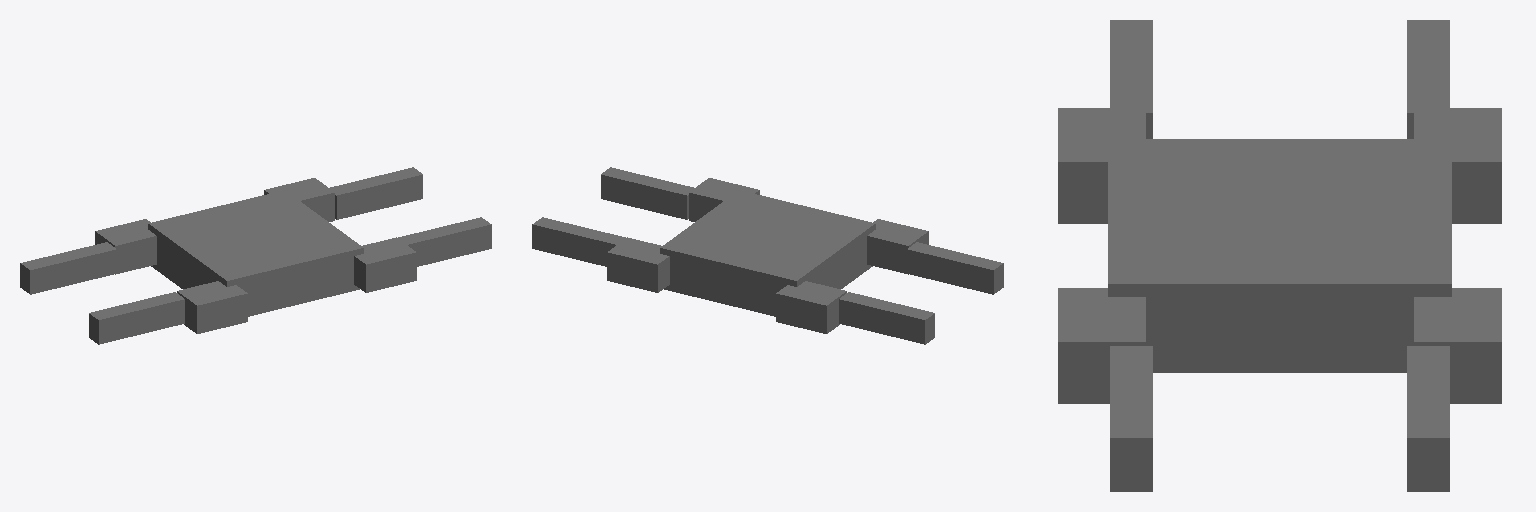
--- What the picture shows (computed from the rendered views, not written in the file) ---
3 views of the same robot in one strip: view 1: azimuth 30°, elevation 25°; view 2: azimuth 150°, elevation 25°; view 3: azimuth 270°, elevation 25° (orthographic).
Robot: ASTRo — 17 links, 16 joints (12 revolute, 4 fixed); root link base; default pose: all joints at 0.
Visible links, largest first — view 1: base, hip2,rl, hip2,rr, hip2,fl, hip1,rr, hip2,fr, hip1,fr, hip1,rl, hip1,fl; view 2: base, hip2,rr, hip2,rl, hip2,fr, hip1,rl, hip2,fl, hip1,fl, hip1,rr, hip1,fr; view 3: base, hip1,fl, hip1,fr, hip1,rl, hip1,rr, hip2,fl, hip2,fr, hip2,rl, hip2,rr.
Boxes of the visible links, box(x1,y1,x2,y2) form: base: box(148, 190, 363, 316); hip2,rl: box(20, 242, 116, 294); hip2,rr: box(89, 292, 184, 344); hip2,fl: box(330, 167, 422, 219); hip1,rr: box(177, 281, 247, 333); hip2,fr: box(398, 217, 491, 266); hip1,fr: box(354, 237, 416, 292); hip1,rl: box(95, 219, 156, 274); hip1,fl: box(264, 178, 334, 221); base: box(660, 190, 875, 316); hip2,rr: box(907, 242, 1003, 294); hip2,rl: box(839, 292, 934, 344); hip2,fr: box(601, 167, 693, 219); hip1,rl: box(776, 281, 846, 333); hip2,fl: box(532, 217, 625, 266); hip1,fl: box(607, 237, 669, 292); hip1,rr: box(867, 219, 928, 274); hip1,fr: box(689, 178, 759, 221); base: box(1108, 139, 1451, 372); hip1,fl: box(1414, 288, 1501, 403); hip1,fr: box(1058, 288, 1145, 403); hip1,rl: box(1414, 108, 1501, 223); hip1,rr: box(1058, 108, 1145, 223); hip2,fl: box(1407, 346, 1449, 491); hip2,fr: box(1110, 346, 1152, 491); hip2,rl: box(1407, 20, 1449, 138); hip2,rr: box(1110, 20, 1152, 138).
Bounding box of the posed robot: 1.01 × 0.4524 × 0.1 m (x, y, z).
Geometry: primitives only (box / cylinder / sphere), no mesh files.

robot.urdf — ASTRo:
<?xml version="1.0" ?>
<!-- =================================================================================== -->
<!-- |    This document was autogenerated by xacro from src/simulator/ASTRo_urdf/ASTRo_xacro/ASTRo_figure.urdf.xacro | -->
<!-- |    EDITING THIS FILE BY HAND IS NOT RECOMMENDED                                 | -->
<!-- =================================================================================== -->
<!-- 
MIT License (modified)
Copyright (c) 2018 Ghost Robotics
Authors:
Avik De <[email redacted]>
Tom Jacobs <[email redacted]>
Vasileios Vasilopoulos <[email redacted]>
Permission is hereby granted, free of charge, to any person obtaining a copy
of this **file** (the "Software"), to deal
in the Software without restriction, including without limitation the rights
to use, copy, modify, merge, publish, distribute, sublicense, and/or sell
copies of the Software, and to permit persons to whom the Software is
furnished to do so, subject to the following conditions:
The above copyright notice and this permission notice shall be included in all
copies or substantial portions of the Software.
THE SOFTWARE IS PROVIDED "AS IS", WITHOUT WARRANTY OF ANY KIND, EXPRESS OR
IMPLIED, INCLUDING BUT NOT LIMITED TO THE WARRANTIES OF MERCHANTABILITY,
FITNESS FOR A PARTICULAR PURPOSE AND NONINFRINGEMENT. IN NO EVENT SHALL THE
AUTHORS OR COPYRIGHT HOLDERS BE LIABLE FOR ANY CLAIM, DAMAGES OR OTHER
LIABILITY, WHETHER IN AN ACTION OF CONTRACT, TORT OR OTHERWISE, ARISING FROM,
OUT OF OR IN CONNECTION WITH THE SOFTWARE OR THE USE OR OTHER DEALINGS IN THE
SOFTWARE. 
-->
<robot name="ASTRo">
  <material name="gray">
    <color rgba="0.5 0.5 0.5 1.0"/>
  </material>
  <!-- Body -->
  <link name="base">
    <visual>
      <origin rpy="0 0 0" xyz="0 0 0"/>
      <geometry>
        <box size="0.35 0.35 0.1"/>
      </geometry>
      <material name="gray"/>
    </visual>
    <inertial>
      <mass value="10.1"/>
      <!-- Uniform box -->
      <inertia ixx="0.141" ixy="0" ixz="0" iyy="0.143" iyz="0" izz="0.254"/>
    </inertial>
    <!-- Just copy geometry for collision -->
    <collision>
      <geometry>
        <box size="0.35 0.35 0.1"/>
      </geometry>
    </collision>
  </link>
  <gazebo reference="base">
    <material>Gazebo/BlackTransparent</material>
  </gazebo>
  <!-- red new legs -->
  <!-- TODO: clean this, it should be part of main leg macro -->
  <!-- Hip motor -->
  <link name="hip1,fl">
    <visual>
      <origin rpy="0 0 0" xyz="0.065 0.03 0"/>
      <geometry>
        <box size="0.13 0.09 0.07"/>
      </geometry>
      <material name="gray"/>
    </visual>
    <collision>
      <origin rpy="0 0 0" xyz="0.065 0.03 0"/>
      <geometry>
        <box size="0.13 0.09 0.07"/>
      </geometry>
    </collision>
    <inertial>
      <mass value="1.18"/>
      <inertia ixx="0.0299" ixy="0" ixz="0" iyy="0.0333" iyz="0" izz="0.0046"/>
    </inertial>
  </link>
  <gazebo reference="hip1,fl">
    <material>Gazebo/Purple</material>
  </gazebo>
  <!-- Abduction joint. Joint names are: 8 9 10 11 -->
  <joint name="8" type="revolute">
    <parent link="base"/>
    <child link="hip1,fl"/>
    <axis xyz="0 0 1"/>
    <origin rpy="0 0 0.0" xyz="0.15121 0.15121 0"/>
    <limit effort="375" lower="-0.39269908169872414" upper="1.5707963267948966" velocity="8.6"/>
    <dynamics damping="0.0" friction="0.0"/>
  </joint>
  <!-- Transmission elements required for Gazebo -->
  <transmission name="transmission_8">
    <type>transmission_interface/SimpleTransmission</type>
    <joint name="8">
      <hardwareInterface>hardware_interface/EffortJointInterface</hardwareInterface>
    </joint>
    <actuator name="motor_8">
      <hardwareInterface>EffortJointInterface</hardwareInterface>
      <mechanicalReduction>1</mechanicalReduction>
    </actuator>
  </transmission>
  <!-- Upper leg -->
  <link name="hip2,fl">
    <visual>
      <origin rpy="1.5707963267948966 0 0" xyz="0.111 0 -0.03"/>
      <geometry>
        <box size="0.222 0.044 0.06"/>
      </geometry>
      <material name="gray"/>
    </visual>
    <collision>
      <origin rpy="0 0 0" xyz="0.111 0 -0.03"/>
      <geometry>
        <box size="0.222 0.044 0.06"/>
      </geometry>
    </collision>
    <inertial>
      <mass value="1.39"/>
      <inertia ixx="0.0017" ixy="0" ixz="0" iyy="0.0066" iyz="0" izz="0.0064"/>
    </inertial>
  </link>
  <gazebo reference="hip2,fl">
    <material>Gazebo/Blue</material>
  </gazebo>
  <!-- Hip joint. (Motor to upper leg). Joint names are: 0 2 4 6 -->
  <joint name="0" type="revolute">
    <parent link="hip1,fl"/>
    <child link="hip2,fl"/>
    <axis xyz="0 0 1"/>
    <origin rpy="-1.5707963267948966 0 0" xyz="0.13 0.03 0"/>
    <limit effort="87.5" lower="-1.5707963267948966" upper="2.356194490192345" velocity="30"/>
    <dynamics damping="0.0" friction="0.0"/>
  </joint>
  <!-- Transmission elements required for Gazebo -->
  <transmission name="transmission_0">
    <type>transmission_interface/SimpleTransmission</type>
    <joint name="0">
      <hardwareInterface>hardware_interface/EffortJointInterface</hardwareInterface>
    </joint>
    <actuator name="motor_0">
      <hardwareInterface>EffortJointInterface</hardwareInterface>
      <mechanicalReduction>1</mechanicalReduction>
    </actuator>
  </transmission>
  <!-- Lower leg -->
  <link name="knee,fl">
    <visual>
      <origin rpy="1.5707963267948966 0 1.5707963267948966" xyz="0.135 0 0"/>
      <geometry>
        <cylinder length="0.27" radius="0.011"/>
      </geometry>
      <material name="gray"/>
    </visual>
    <collision>
      <origin rpy="1.5707963267948966 0 1.5707963267948966" xyz="0.135 0 -0.0"/>
      <geometry>
        <cylinder length="0.27" radius="0.011"/>
      </geometry>
    </collision>
    <inertial>
      <mass value="0.28"/>
      <inertia ixx="0.0665" ixy="0" ixz="0" iyy="0.0032" iyz="0" izz="0.0032"/>
    </inertial>
  </link>
  <gazebo reference="knee,fl">
    <material>Gazebo/Black</material>
  </gazebo>
  <!-- Knee joint. Joint names are: 1 3 5 7 -->
  <joint name="1" type="revolute">
    <parent link="hip2,fl"/>
    <child link="knee,fl"/>
    <axis xyz="0 0 -1"/>
    <origin rpy="0 0 3.141592653589793" xyz="0.222 0 -0.03"/>
    <limit effort="87.5" lower="0" upper="3.141592653589793" velocity="30"/>
    <dynamics damping="0.0" friction="0.0"/>
  </joint>
  <!-- Transmission elements required for Gazebo -->
  <transmission name="transmission_1">
    <type>transmission_interface/SimpleTransmission</type>
    <joint name="1">
      <hardwareInterface>hardware_interface/EffortJointInterface</hardwareInterface>
    </joint>
    <actuator name="motor_1">
      <hardwareInterface>EffortJointInterface</hardwareInterface>
      <mechanicalReduction>1</mechanicalReduction>
    </actuator>
  </transmission>
  

		Toe 
		
  <link name="foot,fl">
    <!--<visual>
				<origin rpy="0 0 0" xyz="0 0 0"/>
				<geometry>
					<sphere radius="${toeRadius}"/>
				</geometry>
			</visual>
			
			<collision>
				<origin rpy="0 0 0" xyz="0 0 0"/>
				<geometry>
					<sphere radius="${toeRadius}"/>
				</geometry>
			</collision>

			<inertial>
				<mass value="${toeMass}"/>
				<inertia ixx="0.000025"  ixy="0"  ixz="0" iyy="0.000025" iyz="0" izz="0.000025" />
			</inertial>
			-->
  </link>
  <gazebo reference="foot,fl">
    <material>Gazebo/DarkGray</material>
    <collision>
      <surface>
        <bounce>
          <restitution_coefficient>0</restitution_coefficient>
          <threshold>1e+06</threshold>
        </bounce>
        <friction>
          <torsional>
            <coefficient>0.3</coefficient>
          </torsional>
          <ode>
            <mu>20.0</mu>
            <mu2>10.0</mu2>
          </ode>
          <bullet>
            <rolling_friction>0.3</rolling_friction>
            <friction2>10.0</friction2>
          </bullet>
        </friction>
        <contact>
          <bullet>
            <kp>30000.0</kp>
            <kd>1000.0</kd>
          </bullet>
          <ode>
            <kp>30000.0</kp>
            <kd>1000.0</kd>
          </ode>
        </contact>
      </surface>
    </collision>
  </gazebo>
  <joint name="jtoe,fl" type="fixed">
    <parent link="knee,fl"/>
    <child link="foot,fl"/>
    <origin xyz="0.27 0 0"/>
    <dynamics damping="0.0" friction="0.0"/>
  </joint>
  <!-- Hip motor -->
  <link name="hip1,rl">
    <visual>
      <origin rpy="0 0 0" xyz="0.065 -0.03 0"/>
      <geometry>
        <box size="0.13 0.09 0.07"/>
      </geometry>
      <material name="gray"/>
    </visual>
    <collision>
      <origin rpy="0 0 0" xyz="0.065 -0.03 0"/>
      <geometry>
        <box size="0.13 0.09 0.07"/>
      </geometry>
    </collision>
    <inertial>
      <mass value="1.18"/>
      <inertia ixx="0.0299" ixy="0" ixz="0" iyy="0.0333" iyz="0" izz="0.0046"/>
    </inertial>
  </link>
  <gazebo reference="hip1,rl">
    <material>Gazebo/Purple</material>
  </gazebo>
  <!-- Abduction joint. Joint names are: 8 9 10 11 -->
  <joint name="9" type="revolute">
    <parent link="base"/>
    <child link="hip1,rl"/>
    <axis xyz="0 0 1"/>
    <origin rpy="0 0 3.141592653589793" xyz="-0.15121 0.15121 0"/>
    <limit effort="375" lower="-1.5707963267948966" upper="0.39269908169872414" velocity="8.6"/>
    <dynamics damping="0.0" friction="0.0"/>
  </joint>
  <!-- Transmission elements required for Gazebo -->
  <transmission name="transmission_9">
    <type>transmission_interface/SimpleTransmission</type>
    <joint name="9">
      <hardwareInterface>hardware_interface/EffortJointInterface</hardwareInterface>
    </joint>
    <actuator name="motor_9">
      <hardwareInterface>EffortJointInterface</hardwareInterface>
      <mechanicalReduction>1</mechanicalReduction>
    </actuator>
  </transmission>
  <!-- Upper leg -->
  <link name="hip2,rl">
    <visual>
      <origin rpy="1.5707963267948966 0 0" xyz="0.111 0 0.03"/>
      <geometry>
        <box size="0.222 0.044 0.06"/>
      </geometry>
      <material name="gray"/>
    </visual>
    <collision>
      <origin rpy="0 0 0" xyz="0.111 0 0.03"/>
      <geometry>
        <box size="0.222 0.044 0.06"/>
      </geometry>
    </collision>
    <inertial>
      <mass value="1.39"/>
      <inertia ixx="0.0017" ixy="0" ixz="0" iyy="0.0066" iyz="0" izz="0.0064"/>
    </inertial>
  </link>
  <gazebo reference="hip2,rl">
    <material>Gazebo/Blue</material>
  </gazebo>
  <!-- Hip joint. (Motor to upper leg). Joint names are: 0 2 4 6 -->
  <joint name="2" type="revolute">
    <parent link="hip1,rl"/>
    <child link="hip2,rl"/>
    <axis xyz="0 0 1"/>
    <origin rpy="-1.5707963267948966 0 0" xyz="0.13 -0.03 0"/>
    <limit effort="87.5" lower="-1.5707963267948966" upper="2.356194490192345" velocity="30"/>
    <dynamics damping="0.0" friction="0.0"/>
  </joint>
  <!-- Transmission elements required for Gazebo -->
  <transmission name="transmission_2">
    <type>transmission_interface/SimpleTransmission</type>
    <joint name="2">
      <hardwareInterface>hardware_interface/EffortJointInterface</hardwareInterface>
    </joint>
    <actuator name="motor_2">
      <hardwareInterface>EffortJointInterface</hardwareInterface>
      <mechanicalReduction>1</mechanicalReduction>
    </actuator>
  </transmission>
  <!-- Lower leg -->
  <link name="knee,rl">
    <visual>
      <origin rpy="1.5707963267948966 0 1.5707963267948966" xyz="0.135 0 0"/>
      <geometry>
        <cylinder length="0.27" radius="0.011"/>
      </geometry>
      <material name="gray"/>
    </visual>
    <collision>
      <origin rpy="1.5707963267948966 0 1.5707963267948966" xyz="0.135 0 -0.0"/>
      <geometry>
        <cylinder length="0.27" radius="0.011"/>
      </geometry>
    </collision>
    <inertial>
      <mass value="0.28"/>
      <inertia ixx="0.0665" ixy="0" ixz="0" iyy="0.0032" iyz="0" izz="0.0032"/>
    </inertial>
  </link>
  <gazebo reference="knee,rl">
    <material>Gazebo/Black</material>
  </gazebo>
  <!-- Knee joint. Joint names are: 1 3 5 7 -->
  <joint name="3" type="revolute">
    <parent link="hip2,rl"/>
    <child link="knee,rl"/>
    <axis xyz="0 0 -1"/>
    <origin rpy="0 0 3.141592653589793" xyz="0.222 0 0.03"/>
    <limit effort="87.5" lower="0" upper="3.141592653589793" velocity="30"/>
    <dynamics damping="0.0" friction="0.0"/>
  </joint>
  <!-- Transmission elements required for Gazebo -->
  <transmission name="transmission_3">
    <type>transmission_interface/SimpleTransmission</type>
    <joint name="3">
      <hardwareInterface>hardware_interface/EffortJointInterface</hardwareInterface>
    </joint>
    <actuator name="motor_3">
      <hardwareInterface>EffortJointInterface</hardwareInterface>
      <mechanicalReduction>1</mechanicalReduction>
    </actuator>
  </transmission>
  

		Toe 
		
  <link name="foot,rl">
    <!--<visual>
				<origin rpy="0 0 0" xyz="0 0 0"/>
				<geometry>
					<sphere radius="${toeRadius}"/>
				</geometry>
			</visual>
			
			<collision>
				<origin rpy="0 0 0" xyz="0 0 0"/>
				<geometry>
					<sphere radius="${toeRadius}"/>
				</geometry>
			</collision>

			<inertial>
				<mass value="${toeMass}"/>
				<inertia ixx="0.000025"  ixy="0"  ixz="0" iyy="0.000025" iyz="0" izz="0.000025" />
			</inertial>
			-->
  </link>
  <gazebo reference="foot,rl">
    <material>Gazebo/DarkGray</material>
    <collision>
      <surface>
        <bounce>
          <restitution_coefficient>0</restitution_coefficient>
          <threshold>1e+06</threshold>
        </bounce>
        <friction>
          <torsional>
            <coefficient>0.3</coefficient>
          </torsional>
          <ode>
            <mu>20.0</mu>
            <mu2>10.0</mu2>
          </ode>
          <bullet>
            <rolling_friction>0.3</rolling_friction>
            <friction2>10.0</friction2>
          </bullet>
        </friction>
        <contact>
          <bullet>
            <kp>30000.0</kp>
            <kd>1000.0</kd>
          </bullet>
          <ode>
            <kp>30000.0</kp>
            <kd>1000.0</kd>
          </ode>
        </contact>
      </surface>
    </collision>
  </gazebo>
  <joint name="jtoe,rl" type="fixed">
    <parent link="knee,rl"/>
    <child link="foot,rl"/>
    <origin xyz="0.27 0 0"/>
    <dynamics damping="0.0" friction="0.0"/>
  </joint>
  <!-- Hip motor -->
  <link name="hip1,fr">
    <visual>
      <origin rpy="0 0 0" xyz="0.065 -0.03 0"/>
      <geometry>
        <box size="0.13 0.09 0.07"/>
      </geometry>
      <material name="gray"/>
    </visual>
    <collision>
      <origin rpy="0 0 0" xyz="0.065 -0.03 0"/>
      <geometry>
        <box size="0.13 0.09 0.07"/>
      </geometry>
    </collision>
    <inertial>
      <mass value="1.18"/>
      <inertia ixx="0.0299" ixy="0" ixz="0" iyy="0.0333" iyz="0" izz="0.0046"/>
    </inertial>
  </link>
  <gazebo reference="hip1,fr">
    <material>Gazebo/Purple</material>
  </gazebo>
  <!-- Abduction joint. Joint names are: 8 9 10 11 -->
  <joint name="10" type="revolute">
    <parent link="base"/>
    <child link="hip1,fr"/>
    <axis xyz="0 0 1"/>
    <origin rpy="0 0 0.0" xyz="0.15121 -0.15121 0"/>
    <limit effort="375" lower="-1.5707963267948966" upper="0.39269908169872414" velocity="8.6"/>
    <dynamics damping="0.0" friction="0.0"/>
  </joint>
  <!-- Transmission elements required for Gazebo -->
  <transmission name="transmission_10">
    <type>transmission_interface/SimpleTransmission</type>
    <joint name="10">
      <hardwareInterface>hardware_interface/EffortJointInterface</hardwareInterface>
    </joint>
    <actuator name="motor_10">
      <hardwareInterface>EffortJointInterface</hardwareInterface>
      <mechanicalReduction>1</mechanicalReduction>
    </actuator>
  </transmission>
  <!-- Upper leg -->
  <link name="hip2,fr">
    <visual>
      <origin rpy="1.5707963267948966 0 0" xyz="0.111 0 0.03"/>
      <geometry>
        <box size="0.222 0.044 0.06"/>
      </geometry>
      <material name="gray"/>
    </visual>
    <collision>
      <origin rpy="0 0 0" xyz="0.111 0 0.03"/>
      <geometry>
        <box size="0.222 0.044 0.06"/>
      </geometry>
    </collision>
    <inertial>
      <mass value="1.39"/>
      <inertia ixx="0.0017" ixy="0" ixz="0" iyy="0.0066" iyz="0" izz="0.0064"/>
    </inertial>
  </link>
  <gazebo reference="hip2,fr">
    <material>Gazebo/Blue</material>
  </gazebo>
  <!-- Hip joint. (Motor to upper leg). Joint names are: 0 2 4 6 -->
  <joint name="4" type="revolute">
    <parent link="hip1,fr"/>
    <child link="hip2,fr"/>
    <axis xyz="0 0 1"/>
    <origin rpy="-1.5707963267948966 0 0" xyz="0.13 -0.03 0"/>
    <limit effort="87.5" lower="-1.5707963267948966" upper="2.356194490192345" velocity="30"/>
    <dynamics damping="0.0" friction="0.0"/>
  </joint>
  <!-- Transmission elements required for Gazebo -->
  <transmission name="transmission_4">
    <type>transmission_interface/SimpleTransmission</type>
    <joint name="4">
      <hardwareInterface>hardware_interface/EffortJointInterface</hardwareInterface>
    </joint>
    <actuator name="motor_4">
      <hardwareInterface>EffortJointInterface</hardwareInterface>
      <mechanicalReduction>1</mechanicalReduction>
    </actuator>
  </transmission>
  <!-- Lower leg -->
  <link name="knee,fr">
    <visual>
      <origin rpy="1.5707963267948966 0 1.5707963267948966" xyz="0.135 0 0"/>
      <geometry>
        <cylinder length="0.27" radius="0.011"/>
      </geometry>
      <material name="gray"/>
    </visual>
    <collision>
      <origin rpy="1.5707963267948966 0 1.5707963267948966" xyz="0.135 0 -0.0"/>
      <geometry>
        <cylinder length="0.27" radius="0.011"/>
      </geometry>
    </collision>
    <inertial>
      <mass value="0.28"/>
      <inertia ixx="0.0665" ixy="0" ixz="0" iyy="0.0032" iyz="0" izz="0.0032"/>
    </inertial>
  </link>
  <gazebo reference="knee,fr">
    <material>Gazebo/Black</material>
  </gazebo>
  <!-- Knee joint. Joint names are: 1 3 5 7 -->
  <joint name="5" type="revolute">
    <parent link="hip2,fr"/>
    <child link="knee,fr"/>
    <axis xyz="0 0 -1"/>
    <origin rpy="0 0 3.141592653589793" xyz="0.222 0 0.03"/>
    <limit effort="87.5" lower="0" upper="3.141592653589793" velocity="30"/>
    <dynamics damping="0.0" friction="0.0"/>
  </joint>
  <!-- Transmission elements required for Gazebo -->
  <transmission name="transmission_5">
    <type>transmission_interface/SimpleTransmission</type>
    <joint name="5">
      <hardwareInterface>hardware_interface/EffortJointInterface</hardwareInterface>
    </joint>
    <actuator name="motor_5">
      <hardwareInterface>EffortJointInterface</hardwareInterface>
      <mechanicalReduction>1</mechanicalReduction>
    </actuator>
  </transmission>
  

		Toe 
		
  <link name="foot,fr">
    <!--<visual>
				<origin rpy="0 0 0" xyz="0 0 0"/>
				<geometry>
					<sphere radius="${toeRadius}"/>
				</geometry>
			</visual>
			
			<collision>
				<origin rpy="0 0 0" xyz="0 0 0"/>
				<geometry>
					<sphere radius="${toeRadius}"/>
				</geometry>
			</collision>

			<inertial>
				<mass value="${toeMass}"/>
				<inertia ixx="0.000025"  ixy="0"  ixz="0" iyy="0.000025" iyz="0" izz="0.000025" />
			</inertial>
			-->
  </link>
  <gazebo reference="foot,fr">
    <material>Gazebo/DarkGray</material>
    <collision>
      <surface>
        <bounce>
          <restitution_coefficient>0</restitution_coefficient>
          <threshold>1e+06</threshold>
        </bounce>
        <friction>
          <torsional>
            <coefficient>0.3</coefficient>
          </torsional>
          <ode>
            <mu>20.0</mu>
            <mu2>10.0</mu2>
          </ode>
          <bullet>
            <rolling_friction>0.3</rolling_friction>
            <friction2>10.0</friction2>
          </bullet>
        </friction>
        <contact>
          <bullet>
            <kp>30000.0</kp>
            <kd>1000.0</kd>
          </bullet>
          <ode>
            <kp>30000.0</kp>
            <kd>1000.0</kd>
          </ode>
        </contact>
      </surface>
    </collision>
  </gazebo>
  <joint name="jtoe,fr" type="fixed">
    <parent link="knee,fr"/>
    <child link="foot,fr"/>
    <origin xyz="0.27 0 0"/>
    <dynamics damping="0.0" friction="0.0"/>
  </joint>
  <!-- Hip motor -->
  <link name="hip1,rr">
    <visual>
      <origin rpy="0 0 0" xyz="0.065 0.03 0"/>
      <geometry>
        <box size="0.13 0.09 0.07"/>
      </geometry>
      <material name="gray"/>
    </visual>
    <collision>
      <origin rpy="0 0 0" xyz="0.065 0.03 0"/>
      <geometry>
        <box size="0.13 0.09 0.07"/>
      </geometry>
    </collision>
    <inertial>
      <mass value="1.18"/>
      <inertia ixx="0.0299" ixy="0" ixz="0" iyy="0.0333" iyz="0" izz="0.0046"/>
    </inertial>
  </link>
  <gazebo reference="hip1,rr">
    <material>Gazebo/Purple</material>
  </gazebo>
  <!-- Abduction joint. Joint names are: 8 9 10 11 -->
  <joint name="11" type="revolute">
    <parent link="base"/>
    <child link="hip1,rr"/>
    <axis xyz="0 0 1"/>
    <origin rpy="0 0 3.141592653589793" xyz="-0.15121 -0.15121 0"/>
    <limit effort="375" lower="-0.39269908169872414" upper="1.5707963267948966" velocity="8.6"/>
    <dynamics damping="0.0" friction="0.0"/>
  </joint>
  <!-- Transmission elements required for Gazebo -->
  <transmission name="transmission_11">
    <type>transmission_interface/SimpleTransmission</type>
    <joint name="11">
      <hardwareInterface>hardware_interface/EffortJointInterface</hardwareInterface>
    </joint>
    <actuator name="motor_11">
      <hardwareInterface>EffortJointInterface</hardwareInterface>
      <mechanicalReduction>1</mechanicalReduction>
    </actuator>
  </transmission>
  <!-- Upper leg -->
  <link name="hip2,rr">
    <visual>
      <origin rpy="1.5707963267948966 0 0" xyz="0.111 0 -0.03"/>
      <geometry>
        <box size="0.222 0.044 0.06"/>
      </geometry>
      <material name="gray"/>
    </visual>
    <collision>
      <origin rpy="0 0 0" xyz="0.111 0 -0.03"/>
      <geometry>
        <box size="0.222 0.044 0.06"/>
      </geometry>
    </collision>
    <inertial>
      <mass value="1.39"/>
      <inertia ixx="0.0017" ixy="0" ixz="0" iyy="0.0066" iyz="0" izz="0.0064"/>
    </inertial>
  </link>
  <gazebo reference="hip2,rr">
    <material>Gazebo/Blue</material>
  </gazebo>
  <!-- Hip joint. (Motor to upper leg). Joint names are: 0 2 4 6 -->
  <joint name="6" type="revolute">
    <parent link="hip1,rr"/>
    <child link="hip2,rr"/>
    <axis xyz="0 0 1"/>
    <origin rpy="-1.5707963267948966 0 0" xyz="0.13 0.03 0"/>
    <limit effort="87.5" lower="-1.5707963267948966" upper="2.356194490192345" velocity="30"/>
    <dynamics damping="0.0" friction="0.0"/>
  </joint>
  <!-- Transmission elements required for Gazebo -->
  <transmission name="transmission_6">
    <type>transmission_interface/SimpleTransmission</type>
    <joint name="6">
      <hardwareInterface>hardware_interface/EffortJointInterface</hardwareInterface>
    </joint>
    <actuator name="motor_6">
      <hardwareInterface>EffortJointInterface</hardwareInterface>
      <mechanicalReduction>1</mechanicalReduction>
    </actuator>
  </transmission>
  <!-- Lower leg -->
  <link name="knee,rr">
    <visual>
      <origin rpy="1.5707963267948966 0 1.5707963267948966" xyz="0.135 0 0"/>
      <geometry>
        <cylinder length="0.27" radius="0.011"/>
      </geometry>
      <material name="gray"/>
    </visual>
    <collision>
      <origin rpy="1.5707963267948966 0 1.5707963267948966" xyz="0.135 0 -0.0"/>
      <geometry>
        <cylinder length="0.27" radius="0.011"/>
      </geometry>
    </collision>
    <inertial>
      <mass value="0.28"/>
      <inertia ixx="0.0665" ixy="0" ixz="0" iyy="0.0032" iyz="0" izz="0.0032"/>
    </inertial>
  </link>
  <gazebo reference="knee,rr">
    <material>Gazebo/Black</material>
  </gazebo>
  <!-- Knee joint. Joint names are: 1 3 5 7 -->
  <joint name="7" type="revolute">
    <parent link="hip2,rr"/>
    <child link="knee,rr"/>
    <axis xyz="0 0 -1"/>
    <origin rpy="0 0 3.141592653589793" xyz="0.222 0 -0.03"/>
    <limit effort="87.5" lower="0" upper="3.141592653589793" velocity="30"/>
    <dynamics damping="0.0" friction="0.0"/>
  </joint>
  <!-- Transmission elements required for Gazebo -->
  <transmission name="transmission_7">
    <type>transmission_interface/SimpleTransmission</type>
    <joint name="7">
      <hardwareInterface>hardware_interface/EffortJointInterface</hardwareInterface>
    </joint>
    <actuator name="motor_7">
      <hardwareInterface>EffortJointInterface</hardwareInterface>
      <mechanicalReduction>1</mechanicalReduction>
    </actuator>
  </transmission>
  

		Toe 
		
  <link name="foot,rr">
    <!--<visual>
				<origin rpy="0 0 0" xyz="0 0 0"/>
				<geometry>
					<sphere radius="${toeRadius}"/>
				</geometry>
			</visual>
			
			<collision>
				<origin rpy="0 0 0" xyz="0 0 0"/>
				<geometry>
					<sphere radius="${toeRadius}"/>
				</geometry>
			</collision>

			<inertial>
				<mass value="${toeMass}"/>
				<inertia ixx="0.000025"  ixy="0"  ixz="0" iyy="0.000025" iyz="0" izz="0.000025" />
			</inertial>
			-->
  </link>
  <gazebo reference="foot,rr">
    <material>Gazebo/DarkGray</material>
    <collision>
      <surface>
        <bounce>
          <restitution_coefficient>0</restitution_coefficient>
          <threshold>1e+06</threshold>
        </bounce>
        <friction>
          <torsional>
            <coefficient>0.3</coefficient>
          </torsional>
          <ode>
            <mu>20.0</mu>
            <mu2>10.0</mu2>
          </ode>
          <bullet>
            <rolling_friction>0.3</rolling_friction>
            <friction2>10.0</friction2>
          </bullet>
        </friction>
        <contact>
          <bullet>
            <kp>30000.0</kp>
            <kd>1000.0</kd>
          </bullet>
          <ode>
            <kp>30000.0</kp>
            <kd>1000.0</kd>
          </ode>
        </contact>
      </surface>
    </collision>
  </gazebo>
  <joint name="jtoe,rr" type="fixed">
    <parent link="knee,rr"/>
    <child link="foot,rr"/>
    <origin xyz="0.27 0 0"/>
    <dynamics damping="0.0" friction="0.0"/>
  </joint>
  <!-- Add ros_control plugin -->
  <gazebo>
    <plugin filename="libgazebo_ros_control.so" name="gazebo_ros_control">
      <robotNamespace>/ASTRo</robotNamespace>
    </plugin>
  </gazebo>
</robot>
